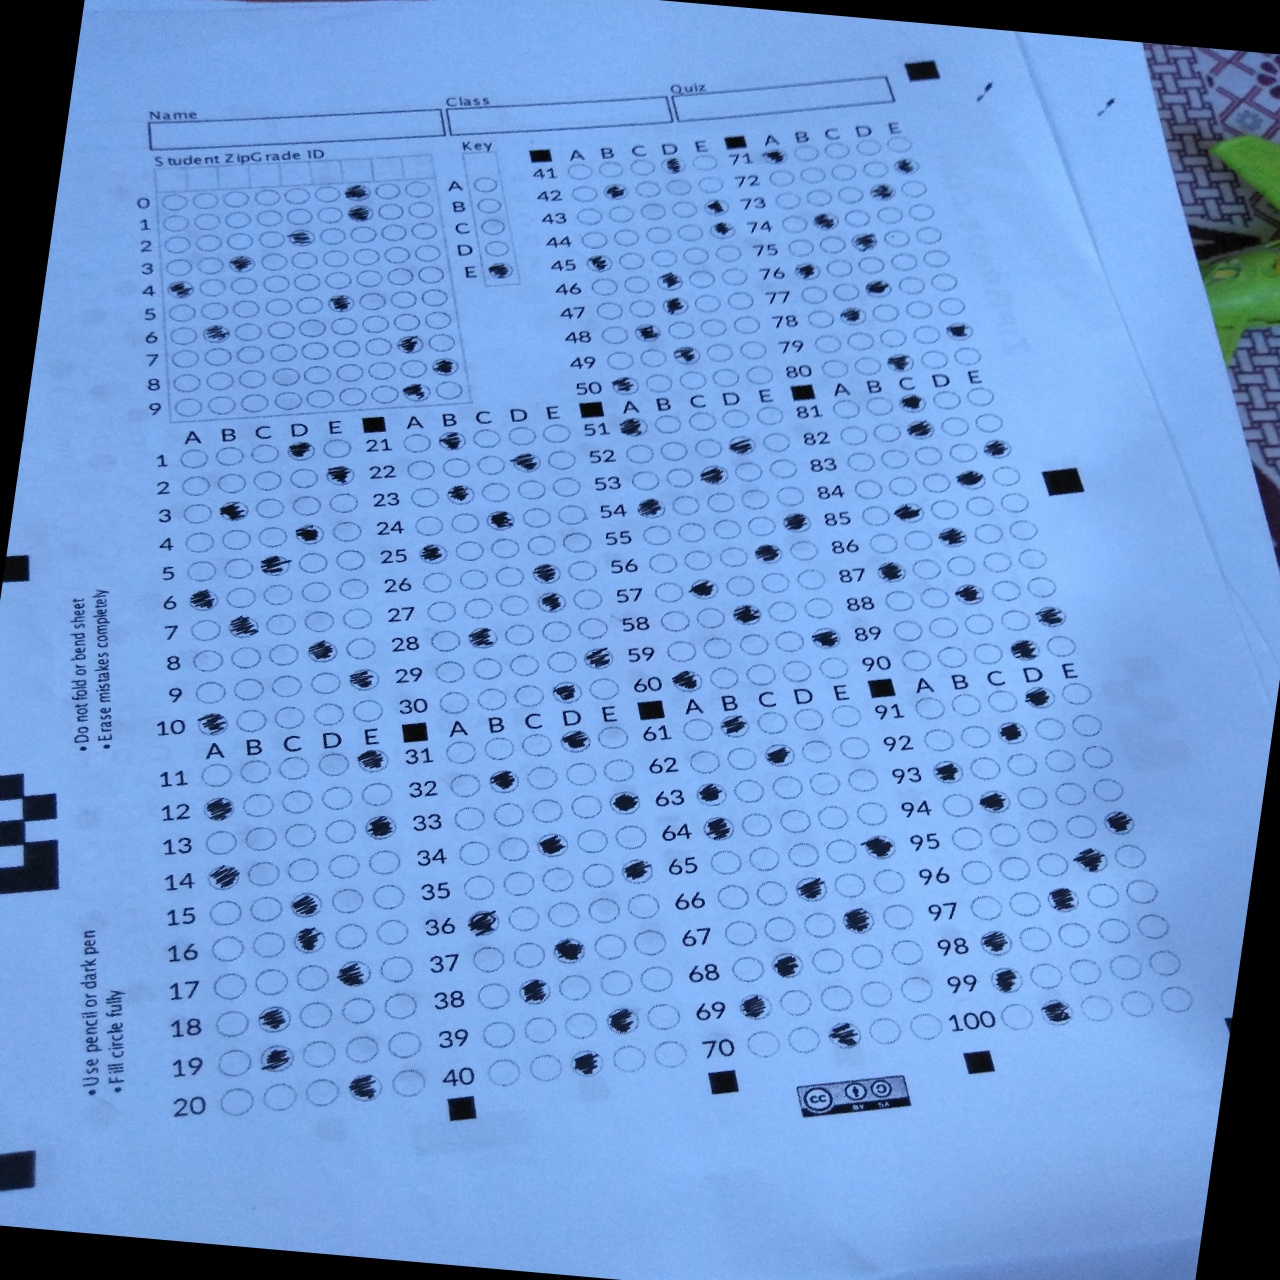not-c: (590, 931, 631, 964), (595, 965, 636, 998), (478, 1017, 519, 1050), (365, 847, 406, 880), (324, 849, 365, 881), (297, 999, 338, 1032), (216, 1085, 257, 1118), (205, 897, 246, 930), (273, 753, 314, 785), (554, 971, 594, 1003), (388, 1065, 428, 1098), (216, 1047, 256, 1080), (260, 1081, 300, 1114), (195, 760, 234, 792), (629, 927, 670, 959), (636, 964, 678, 995), (472, 981, 513, 1013), (520, 1014, 561, 1046), (651, 1039, 692, 1070), (384, 1030, 425, 1062), (379, 990, 420, 1022), (376, 952, 417, 983), (368, 881, 409, 913), (331, 920, 372, 952), (292, 962, 333, 994), (342, 1034, 383, 1065), (298, 1037, 339, 1069), (210, 972, 251, 1003), (248, 930, 290, 961), (281, 819, 322, 851), (315, 782, 356, 813), (358, 779, 399, 811), (240, 824, 281, 856), (234, 756, 275, 788), (806, 946, 847, 978), (799, 911, 840, 942), (610, 1043, 649, 1075), (482, 1057, 522, 1089), (372, 917, 411, 948), (327, 884, 367, 915), (338, 995, 377, 1027), (251, 967, 291, 999), (207, 932, 247, 964), (247, 894, 287, 926), (243, 858, 282, 890), (200, 826, 240, 858), (314, 748, 354, 779), (996, 1000, 1036, 1032), (1077, 992, 1117, 1023), (856, 978, 896, 1009), (720, 917, 760, 948), (644, 1001, 685, 1032), (282, 855, 324, 885), (776, 987, 817, 1017), (816, 983, 857, 1014), (847, 940, 888, 971), (727, 954, 768, 985), (525, 1051, 564, 1083), (321, 817, 360, 849), (278, 787, 316, 818), (1107, 951, 1145, 982), (783, 1024, 822, 1056), (302, 1076, 342, 1107), (211, 1008, 251, 1039), (237, 790, 277, 821), (1117, 988, 1157, 1019), (1026, 960, 1065, 990), (1156, 983, 1196, 1014), (865, 1016, 905, 1047), (743, 1029, 783, 1060), (897, 975, 937, 1006), (886, 938, 926, 968), (870, 866, 910, 897), (830, 869, 870, 899), (561, 1010, 600, 1041), (1065, 955, 1104, 986), (879, 903, 918, 933), (760, 914, 799, 944), (822, 837, 862, 866), (540, 864, 577, 896), (461, 872, 498, 903), (523, 762, 560, 792), (561, 760, 599, 790), (625, 892, 662, 922), (470, 944, 508, 974), (907, 1012, 946, 1041), (753, 879, 791, 908), (828, 702, 866, 731), (1032, 850, 1071, 878), (518, 731, 554, 762), (529, 796, 565, 826), (600, 755, 636, 785), (613, 822, 649, 852), (506, 904, 543, 934), (495, 835, 532, 864), (544, 899, 581, 928), (510, 940, 547, 969), (1006, 888, 1043, 918), (958, 858, 996, 886), (994, 855, 1033, 883), (1122, 877, 1160, 905), (1083, 881, 1122, 910), (966, 893, 1005, 921), (1095, 917, 1133, 945), (714, 881, 753, 910), (723, 745, 762, 774), (679, 716, 717, 744), (753, 709, 791, 737), (501, 869, 537, 898), (491, 799, 527, 829), (481, 734, 517, 763), (568, 792, 605, 822), (594, 723, 631, 753), (586, 896, 622, 925), (579, 862, 617, 890), (939, 792, 976, 821), (1013, 783, 1050, 811), (986, 822, 1023, 850), (948, 825, 986, 853), (1111, 842, 1149, 870), (1055, 920, 1092, 948), (1135, 912, 1172, 940), (708, 849, 745, 877), (745, 845, 783, 873), (813, 804, 851, 832), (738, 811, 776, 839), (730, 777, 768, 805), (768, 772, 805, 801), (844, 767, 881, 795), (797, 737, 835, 765), (911, 694, 949, 721), (1061, 813, 1099, 840), (775, 808, 813, 835), (971, 639, 1006, 668), (576, 828, 611, 857), (934, 644, 971, 672), (743, 661, 779, 689), (735, 631, 771, 659), (1024, 817, 1061, 845), (1016, 926, 1053, 954), (1148, 948, 1184, 976), (785, 840, 822, 869), (852, 799, 888, 828), (806, 769, 843, 797), (1089, 776, 1126, 803), (1051, 779, 1089, 806), (836, 735, 873, 762), (686, 748, 723, 775), (815, 654, 850, 682), (706, 663, 741, 692), (700, 634, 735, 662), (663, 636, 699, 665), (757, 568, 794, 595), (709, 517, 745, 544), (539, 420, 576, 447), (518, 505, 554, 532), (559, 529, 595, 556), (455, 566, 491, 593), (271, 704, 307, 731), (263, 611, 299, 638), (185, 557, 222, 584), (251, 496, 287, 523), (320, 436, 356, 463), (1068, 712, 1104, 738), (983, 687, 1020, 714), (791, 706, 828, 733), (956, 724, 994, 750), (1040, 747, 1077, 772), (350, 697, 384, 726), (899, 646, 934, 673), (771, 628, 806, 655), (658, 610, 693, 636), (764, 599, 799, 626), (801, 595, 836, 622), (722, 572, 757, 599), (651, 580, 686, 607), (644, 550, 679, 577), (703, 489, 738, 516), (744, 513, 779, 540), (675, 518, 710, 545), (639, 523, 674, 550), (669, 491, 704, 518), (622, 441, 658, 468), (655, 437, 690, 464), (690, 435, 726, 462), (758, 430, 794, 457), (403, 456, 438, 483), (438, 454, 474, 481), (472, 452, 508, 479), (544, 447, 579, 474), (549, 475, 584, 502), (515, 477, 550, 504), (410, 513, 445, 540), (448, 510, 483, 537), (421, 568, 456, 595), (474, 685, 509, 712), (511, 683, 546, 710), (502, 622, 537, 649), (492, 563, 527, 590), (570, 586, 605, 613), (545, 649, 580, 676), (539, 618, 574, 645), (423, 598, 458, 625), (431, 658, 467, 685), (308, 670, 343, 697), (229, 645, 264, 672), (191, 647, 226, 674), (192, 680, 227, 707), (343, 636, 379, 663), (339, 605, 374, 632), (190, 618, 225, 645), (261, 583, 297, 610), (297, 579, 332, 606), (336, 576, 372, 602), (334, 546, 369, 573), (183, 529, 218, 556), (175, 445, 210, 472), (212, 442, 247, 469), (218, 526, 253, 553), (247, 440, 282, 467), (442, 738, 477, 765), (1003, 751, 1039, 778), (1080, 743, 1115, 770), (407, 484, 443, 510), (459, 595, 496, 621), (564, 558, 600, 584), (248, 468, 285, 493), (920, 727, 956, 753), (965, 756, 1001, 782), (1030, 716, 1068, 741), (779, 659, 813, 686), (731, 459, 765, 486), (738, 486, 772, 513), (772, 483, 806, 510), (234, 708, 268, 735), (297, 550, 331, 577), (222, 556, 256, 583), (256, 524, 290, 551), (290, 492, 324, 519), (331, 519, 365, 546), (452, 805, 486, 832), (693, 604, 728, 629), (794, 567, 829, 593), (787, 537, 822, 563), (680, 549, 715, 574), (717, 545, 753, 571), (661, 465, 696, 491), (627, 468, 662, 493), (765, 455, 801, 481), (753, 403, 788, 429), (685, 408, 720, 434), (651, 410, 686, 436), (504, 423, 539, 449), (469, 425, 504, 451), (399, 430, 434, 456), (479, 479, 515, 505), (524, 532, 559, 558), (486, 536, 522, 561), (451, 537, 486, 563), (470, 656, 505, 682), (496, 594, 531, 620), (576, 617, 611, 642), (587, 676, 622, 702), (429, 628, 464, 654), (437, 690, 472, 716), (309, 702, 345, 728), (230, 676, 265, 702), (266, 644, 301, 669), (301, 610, 336, 635), (224, 584, 259, 610), (181, 501, 216, 526), (178, 474, 213, 499), (284, 464, 319, 490), (326, 489, 361, 515), (448, 771, 483, 797), (457, 840, 492, 866), (948, 692, 983, 717), (891, 617, 924, 644), (964, 493, 998, 519), (927, 497, 961, 523), (886, 474, 920, 499), (881, 587, 915, 613), (719, 406, 753, 431), (554, 503, 588, 529), (508, 653, 542, 679), (268, 673, 302, 699), (215, 471, 248, 497), (911, 444, 946, 469), (920, 471, 953, 497), (851, 475, 884, 501), (878, 447, 911, 472), (947, 441, 980, 467), (863, 394, 896, 420), (829, 396, 862, 422), (918, 585, 951, 611), (927, 614, 960, 640), (962, 612, 995, 638), (818, 355, 852, 380), (1006, 517, 1040, 542), (908, 556, 942, 580), (901, 527, 935, 552), (971, 520, 1005, 545), (938, 415, 972, 440), (930, 387, 964, 411), (836, 422, 870, 447), (869, 421, 903, 445), (1044, 633, 1078, 658), (1058, 681, 1092, 706), (362, 335, 395, 360), (359, 313, 392, 338), (390, 309, 423, 334), (387, 287, 420, 312), (168, 324, 200, 348), (642, 224, 675, 248), (852, 353, 885, 377), (869, 300, 901, 325), (980, 549, 1013, 573), (844, 450, 877, 475), (999, 608, 1032, 633), (365, 360, 399, 383), (663, 319, 697, 342), (951, 343, 985, 367), (918, 348, 952, 372), (964, 384, 998, 408), (973, 411, 1007, 435), (989, 464, 1023, 488), (998, 491, 1032, 515), (1014, 546, 1048, 570), (1024, 576, 1058, 599), (988, 579, 1022, 602), (944, 554, 978, 578), (169, 347, 200, 372), (626, 297, 658, 321), (730, 313, 762, 338), (333, 361, 366, 384), (257, 250, 290, 273), (229, 298, 261, 321), (268, 365, 301, 388), (304, 387, 336, 410), (481, 237, 513, 260), (712, 241, 744, 265), (685, 268, 717, 292), (719, 266, 751, 290), (669, 198, 702, 222), (631, 178, 663, 202), (604, 202, 636, 225), (595, 158, 628, 182), (798, 284, 831, 307), (903, 298, 935, 321), (859, 504, 892, 527), (701, 197, 734, 220), (658, 154, 690, 177), (617, 251, 649, 274), (866, 532, 900, 554), (192, 232, 224, 256), (338, 384, 369, 408), (356, 291, 388, 314), (353, 267, 384, 291), (381, 243, 413, 266), (260, 272, 292, 295), (292, 271, 324, 294), (203, 345, 234, 368), (236, 367, 267, 390), (238, 392, 270, 415), (206, 394, 238, 417), (703, 341, 735, 365), (697, 316, 729, 340), (674, 222, 706, 245), (680, 244, 712, 267), (663, 176, 695, 199), (877, 326, 908, 349), (601, 181, 633, 204), (350, 246, 383, 268), (322, 268, 355, 291), (229, 274, 261, 297), (195, 254, 227, 277), (196, 275, 229, 298), (261, 297, 294, 319), (264, 319, 297, 341), (331, 338, 363, 360), (604, 349, 636, 372), (636, 347, 669, 369), (621, 274, 654, 297), (610, 227, 642, 250), (692, 292, 724, 314), (855, 254, 887, 277), (823, 257, 856, 279), (844, 331, 877, 353), (935, 294, 968, 316), (290, 248, 320, 272), (724, 290, 755, 313), (695, 173, 726, 197), (884, 132, 914, 156), (316, 225, 348, 247), (377, 222, 409, 244), (408, 219, 440, 241), (411, 241, 443, 264), (418, 286, 450, 308), (383, 265, 415, 287), (320, 247, 352, 270), (199, 300, 231, 322), (166, 301, 198, 324), (231, 320, 263, 342), (295, 316, 327, 339), (328, 315, 360, 338), (299, 339, 331, 361), (301, 363, 333, 386), (272, 390, 304, 413), (573, 206, 605, 229), (743, 365, 775, 387), (737, 340, 769, 362), (707, 219, 738, 241), (648, 247, 680, 270), (636, 200, 668, 223), (888, 251, 920, 273), (806, 307, 838, 329), (813, 333, 845, 355), (928, 272, 960, 294), (311, 184, 343, 205), (162, 234, 195, 256), (920, 248, 953, 270), (164, 256, 195, 278), (294, 294, 325, 316), (268, 341, 299, 363), (171, 372, 202, 394), (594, 299, 625, 321), (644, 372, 674, 394), (710, 367, 741, 389), (804, 186, 835, 209), (899, 178, 930, 200), (906, 200, 937, 223), (876, 204, 906, 226), (817, 234, 847, 257), (223, 231, 254, 252), (256, 229, 287, 250), (374, 200, 406, 222), (372, 181, 403, 202), (433, 380, 464, 401), (234, 343, 266, 365), (204, 370, 236, 392), (172, 397, 204, 418), (477, 216, 509, 237), (564, 162, 595, 183), (568, 183, 600, 204), (578, 230, 610, 251), (588, 275, 620, 297), (676, 370, 708, 392), (830, 281, 862, 302), (911, 324, 942, 345), (896, 275, 927, 297), (628, 156, 658, 178), (791, 142, 821, 164), (862, 158, 891, 181), (829, 161, 858, 183), (837, 183, 866, 205), (881, 227, 911, 250), (913, 224, 942, 246), (159, 192, 190, 213), (256, 207, 286, 229), (347, 224, 377, 245), (406, 200, 436, 222), (402, 179, 433, 200), (422, 309, 452, 331), (427, 332, 457, 353), (399, 358, 429, 379), (369, 384, 400, 406), (470, 173, 501, 195), (474, 196, 504, 217), (599, 325, 629, 346), (767, 168, 797, 189), (772, 191, 803, 212), (840, 207, 871, 229), (252, 188, 284, 207), (314, 205, 346, 225), (161, 213, 192, 233), (787, 236, 815, 258), (416, 264, 445, 285), (689, 152, 719, 173), (853, 138, 883, 159), (797, 165, 826, 186), (779, 213, 809, 234), (188, 192, 220, 211), (220, 189, 251, 209), (285, 206, 315, 226), (192, 212, 223, 232), (282, 186, 312, 206), (822, 139, 851, 159), (223, 211, 253, 230)
taken-c: (566, 1046, 608, 1081), (254, 1002, 295, 1037), (601, 1005, 644, 1039), (257, 1040, 298, 1074), (343, 1071, 384, 1105), (516, 975, 557, 1009), (549, 934, 590, 968), (463, 907, 504, 941), (1042, 883, 1083, 915), (734, 990, 776, 1022), (987, 964, 1027, 996), (554, 726, 595, 757), (547, 678, 588, 709), (838, 905, 879, 937), (767, 948, 808, 980), (823, 1020, 864, 1051), (1036, 996, 1077, 1028), (975, 927, 1016, 959), (1073, 846, 1114, 878), (1099, 806, 1141, 838), (290, 924, 328, 956), (335, 958, 374, 990), (618, 856, 658, 887), (605, 789, 645, 821), (484, 765, 524, 797), (791, 874, 831, 906), (287, 890, 326, 921), (533, 829, 572, 860), (463, 624, 503, 654), (692, 779, 731, 810), (859, 832, 898, 863), (580, 644, 620, 673), (205, 862, 243, 892), (699, 813, 737, 843), (975, 787, 1012, 817), (199, 794, 237, 823), (762, 741, 799, 770), (930, 758, 967, 788), (1007, 635, 1046, 663), (951, 581, 989, 610), (931, 524, 969, 552), (952, 467, 990, 495), (363, 813, 400, 843), (716, 712, 753, 741), (993, 717, 1030, 745), (871, 557, 908, 585), (888, 501, 927, 527), (1023, 682, 1058, 712), (529, 560, 565, 588), (481, 508, 517, 536), (508, 449, 544, 477), (436, 428, 472, 456), (1033, 602, 1070, 629), (978, 436, 1015, 463), (668, 667, 704, 694), (896, 392, 932, 418), (535, 588, 568, 617), (227, 614, 263, 641), (416, 540, 451, 567), (443, 482, 478, 509), (724, 431, 760, 458), (686, 576, 721, 602), (808, 625, 843, 652), (345, 667, 381, 693), (668, 343, 704, 369), (904, 417, 940, 443), (217, 499, 252, 525), (291, 522, 326, 547), (186, 587, 222, 613), (302, 639, 338, 665), (195, 712, 230, 737), (356, 747, 392, 772), (615, 414, 651, 440), (608, 373, 644, 399), (696, 462, 731, 488), (633, 495, 668, 520), (729, 601, 764, 627), (779, 510, 813, 536), (847, 229, 881, 254), (258, 553, 293, 578), (881, 350, 917, 375), (941, 319, 976, 343), (835, 305, 870, 329), (859, 277, 894, 301), (788, 259, 823, 284), (583, 250, 615, 275), (581, 250, 614, 275), (629, 321, 663, 346), (753, 542, 787, 566), (890, 154, 924, 178), (806, 210, 842, 233), (865, 181, 900, 204), (658, 294, 690, 319), (324, 463, 358, 486), (654, 271, 686, 295), (428, 354, 461, 377), (400, 381, 433, 404), (346, 202, 377, 225), (326, 291, 358, 314), (758, 144, 790, 168), (393, 333, 425, 355), (284, 440, 316, 462), (485, 259, 516, 282), (286, 226, 316, 250), (166, 277, 197, 300), (200, 322, 232, 345), (227, 252, 257, 275), (342, 181, 372, 203)
